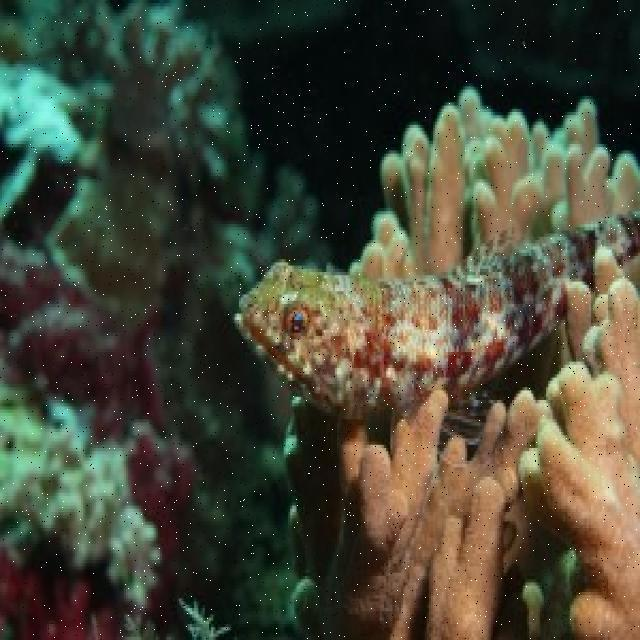Bleached: (284, 93, 640, 640), (6, 414, 122, 541)
Healthy: (1, 269, 154, 402), (112, 51, 173, 259), (3, 561, 124, 640)
